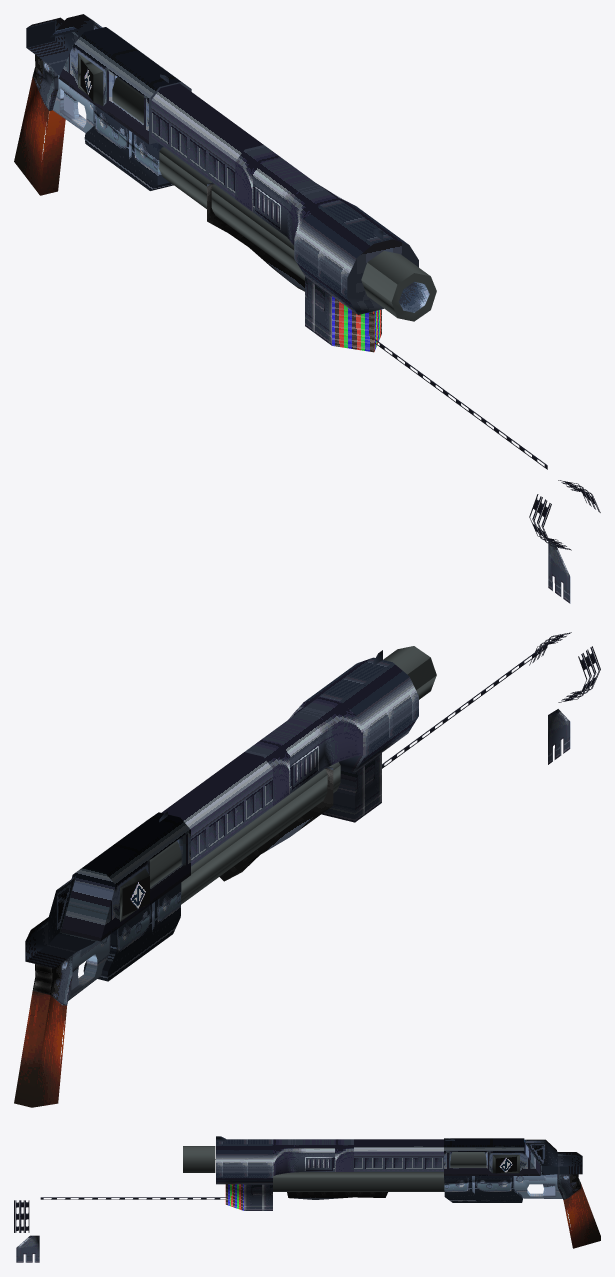
File: 12-shotgun-fp.glb
3 renders of one model, top to bottom at view 1: azimuth 30°, elevation 25°; view 2: azimuth 150°, elevation 25°; view 3: azimuth 270°, elevation 25°, orthographic. The views are drawn at different scales.
Parts seen in each view (by area): view 1: gun; view 2: gun; view 3: gun.
Part boxes in pixels (bbox=[...]): gun: bbox=[14, 14, 600, 603]; gun: bbox=[14, 632, 600, 1107]; gun: bbox=[14, 1136, 600, 1262].
Size of the model in its own units: 72.12 by 227 by 957.
20 materials, 20 textured.
